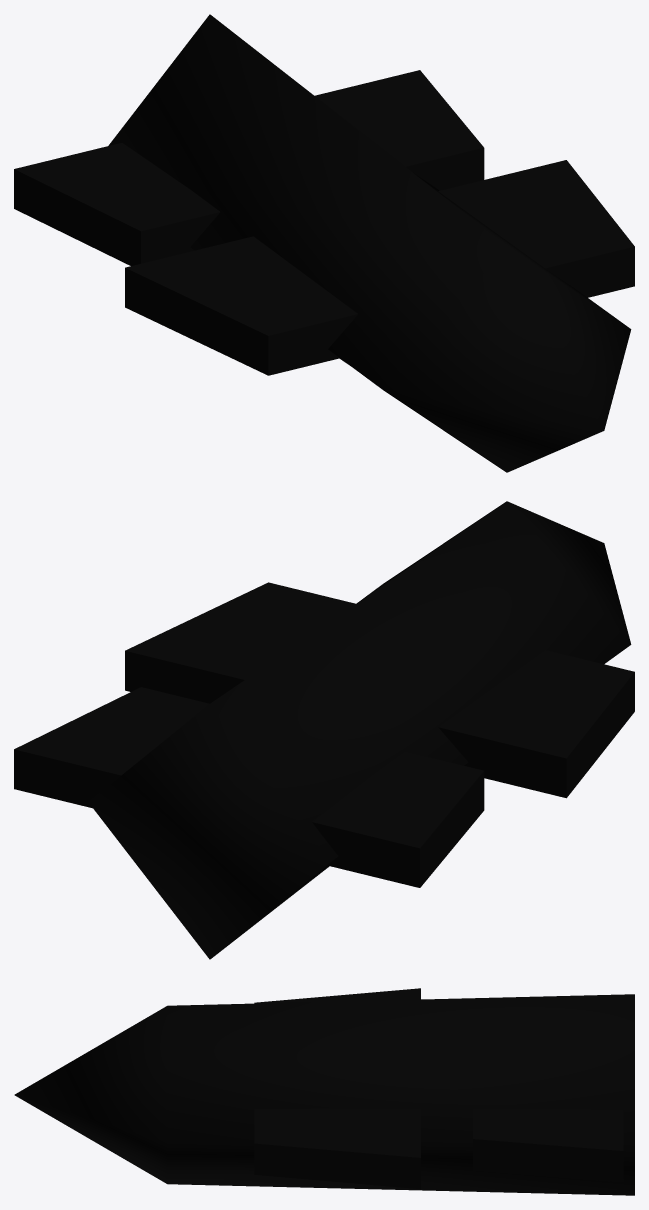
File: guide01.FBX
3 views of the same model, one above another, from view 1: azimuth 30°, elevation 25°; view 2: azimuth 150°, elevation 25°; view 3: azimuth 270°, elevation 25° (orthographic). The views are drawn at different scales.
Visible parts, largest first — view 1: guide01; view 2: guide01; view 3: guide01.
Part boxes in pixels (x1=…): guide01: x1=14, y1=14, x2=634, y2=472; guide01: x1=14, y1=501, x2=634, y2=959; guide01: x1=14, y1=988, x2=634, y2=1195.
Bounding box in the file's own units: 1.05 × 1.62 × 0.5806.
